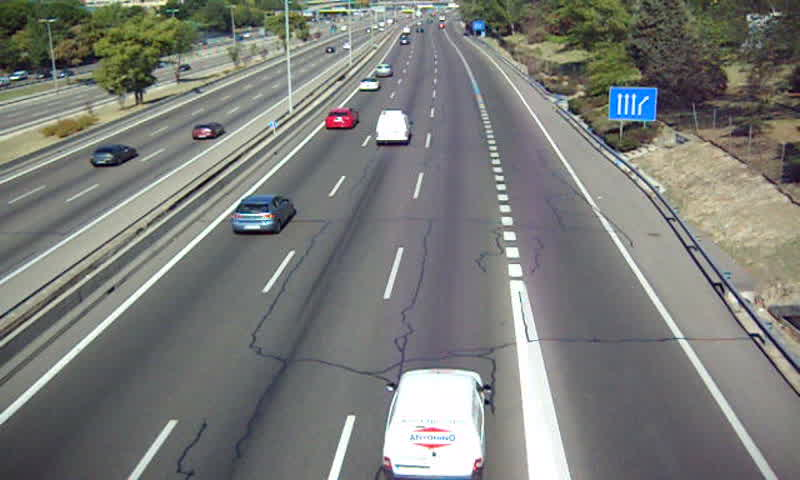car: (233, 194, 293, 234), (326, 108, 358, 131), (358, 78, 380, 91), (375, 63, 392, 78)
van: (383, 369, 486, 480), (375, 110, 411, 144)
